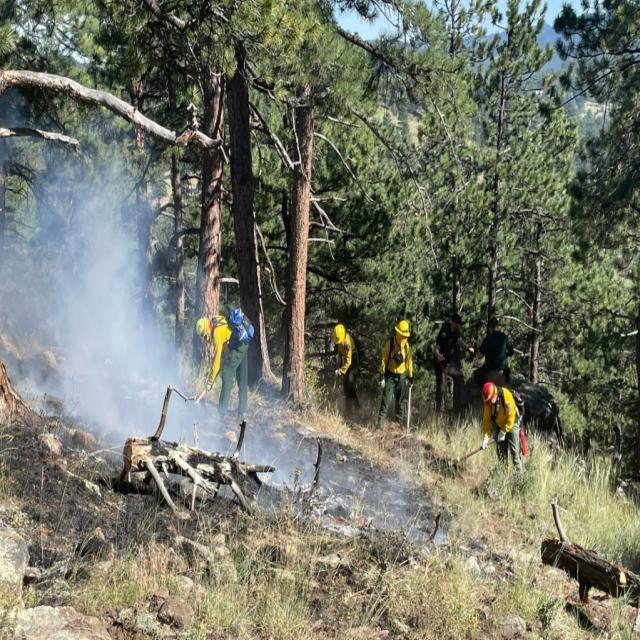Smoke: (0, 140, 284, 483)
